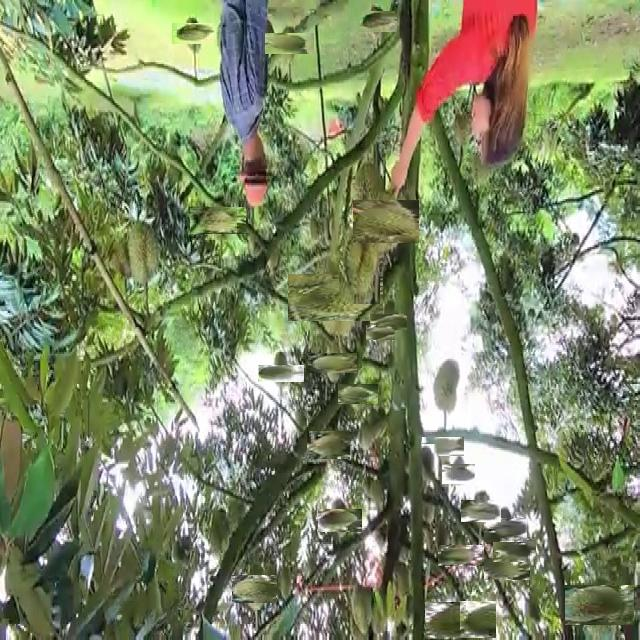durian: (300, 262, 371, 333), (339, 220, 380, 304), (573, 578, 627, 632), (359, 195, 413, 249), (125, 213, 163, 285), (352, 161, 384, 236), (431, 358, 461, 420), (197, 200, 239, 242), (236, 570, 274, 607), (424, 604, 462, 640), (459, 602, 496, 638), (310, 427, 346, 463), (322, 503, 357, 538), (315, 346, 351, 380), (489, 553, 524, 587), (443, 538, 478, 572), (272, 26, 307, 60), (489, 513, 523, 547), (499, 534, 531, 568), (177, 18, 209, 50), (265, 358, 297, 390), (465, 495, 497, 526), (343, 378, 374, 409), (428, 431, 458, 463), (362, 6, 392, 37), (418, 444, 437, 487), (445, 460, 472, 487), (375, 309, 403, 335), (369, 321, 392, 343)
